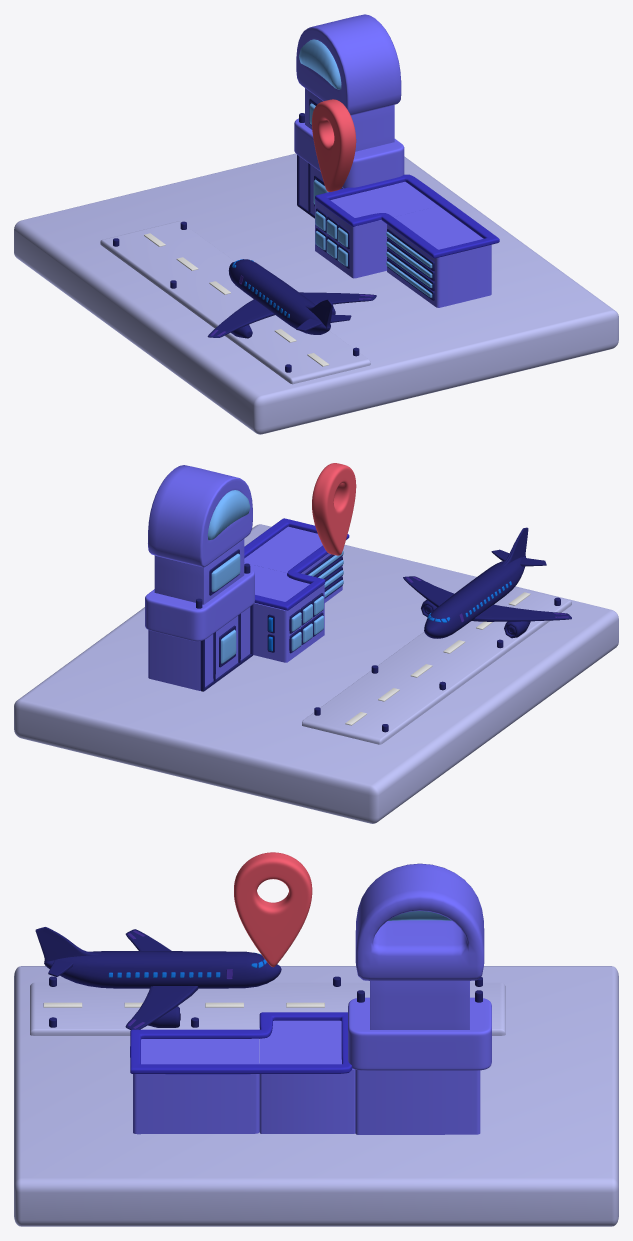
The model's file is airport.fbx.
3 renders of one model, top to bottom at view 1: azimuth 30°, elevation 25°; view 2: azimuth 150°, elevation 25°; view 3: azimuth 270°, elevation 25°, orthographic. The views are drawn at different scales.
Parts seen in each view (by area): view 1: Cube.038, Cube.037, THIRD FLOOR, IceCreaShop.035, IceCreaShop.036, AIRPLANE, Cube.036, Cylinder.018, BEAM, DOOR.044, SECOND FLOOR, WINDOW FRAME.013 (+3 smaller); view 2: Cube.038, Cube.037, THIRD FLOOR, AIRPLANE, BEAM, IceCreaShop.037, IceCreaShop.036, Cylinder.018, DOOR.044, SECOND FLOOR, IceCreaShop.035, Cube.036 (+4 smaller); view 3: Cube.038, THIRD FLOOR, Cube.037, IceCreaShop.035, AIRPLANE, IceCreaShop.036, IceCreaShop.037, BEAM, Cylinder.018, Cube.036, SECOND FLOOR, TAIL (+1 smaller).
Part boxes in pixels (box(x1,y1,x2,y2)): Cube.038: box(14, 153, 618, 434); Cube.037: box(100, 221, 370, 384); THIRD FLOOR: box(296, 14, 401, 115); IceCreaShop.035: box(387, 206, 491, 307); IceCreaShop.036: box(315, 181, 438, 278); AIRPLANE: box(207, 259, 376, 338); Cube.036: box(315, 174, 499, 258); Cylinder.018: box(312, 99, 356, 191); BEAM: box(294, 118, 404, 188); DOOR.044: box(309, 103, 432, 297); SECOND FLOOR: box(305, 88, 394, 151); WINDOW FRAME.013: box(309, 98, 434, 300); Cube.038: box(14, 524, 618, 823); Cube.037: box(302, 587, 571, 744); THIRD FLOOR: box(148, 465, 252, 567); AIRPLANE: box(403, 556, 571, 638); BEAM: box(145, 569, 254, 641); IceCreaShop.037: box(148, 607, 250, 690); IceCreaShop.036: box(244, 563, 324, 662); Cylinder.018: box(312, 463, 356, 555); DOOR.044: box(211, 551, 343, 663); SECOND FLOOR: box(154, 539, 244, 604); IceCreaShop.035: box(244, 526, 342, 602); Cube.036: box(244, 518, 349, 610); Cube.038: box(14, 966, 618, 1226); THIRD FLOOR: box(355, 863, 484, 980); Cube.037: box(30, 982, 505, 1035); IceCreaShop.035: box(133, 1038, 259, 1134); AIRPLANE: box(44, 929, 281, 1029); IceCreaShop.036: box(259, 1020, 355, 1133); IceCreaShop.037: box(355, 1069, 480, 1134); BEAM: box(348, 997, 491, 1070); Cylinder.018: box(234, 852, 312, 967); Cube.036: box(130, 1012, 352, 1074); SECOND FLOOR: box(370, 981, 469, 1029); TAIL: box(35, 927, 99, 963).
Size of the model in its own units: 576 by 348 by 668.
